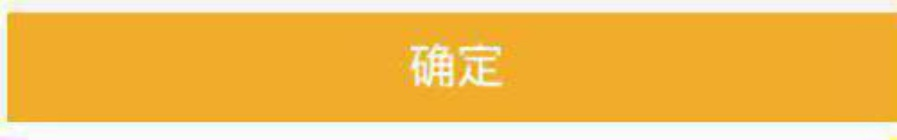Button: (1, 1, 896, 139)
